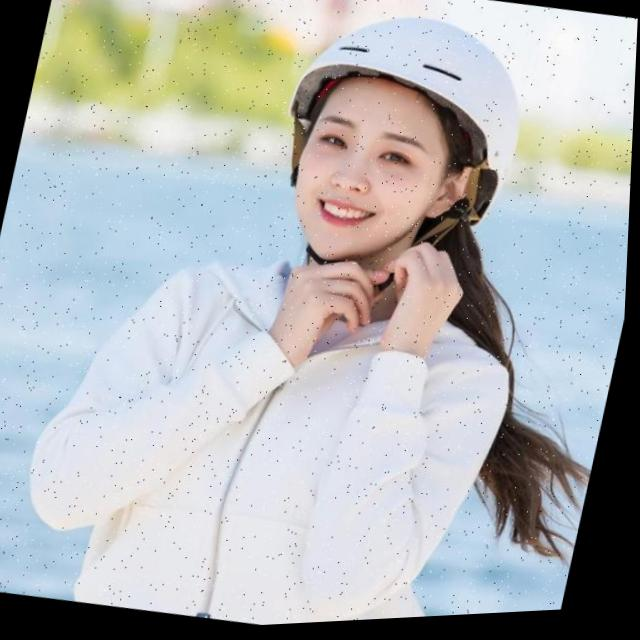helmet: (260, 0, 546, 304)
